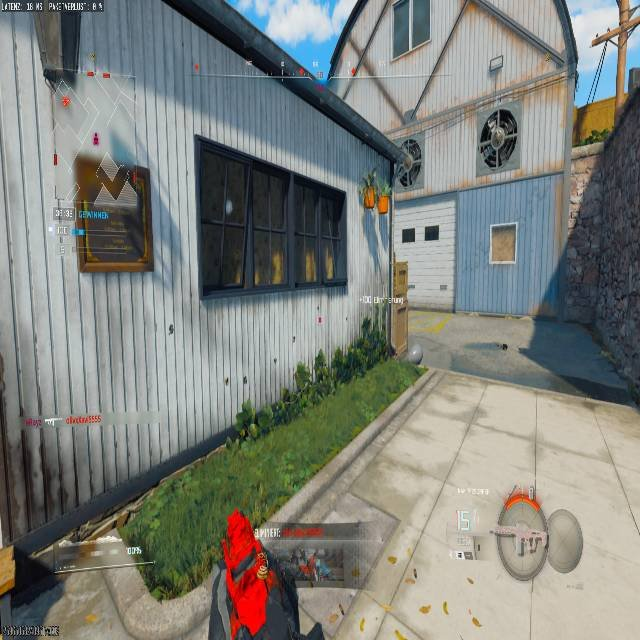player: (394, 138, 422, 191)
